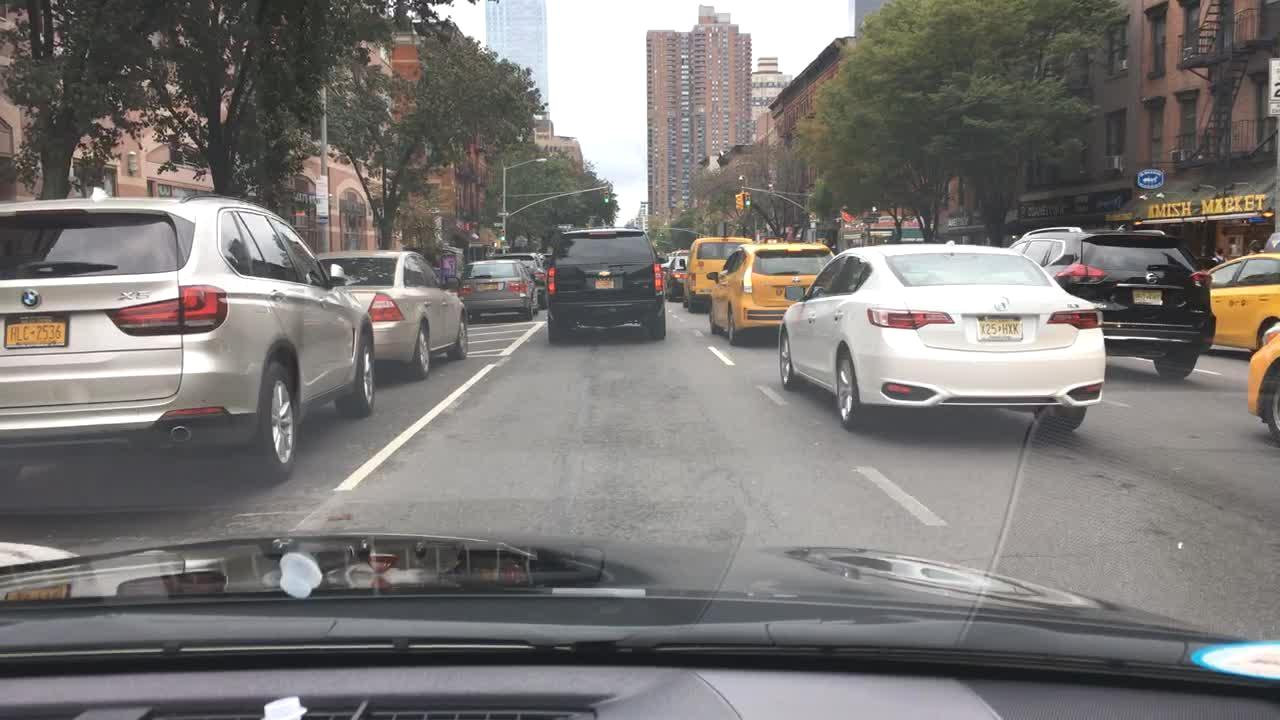Nissan: (1132, 264, 1172, 291)
Toyota: (787, 273, 807, 289)
acura: (971, 288, 1018, 323)
bmw: (20, 288, 41, 313)
chevrolet: (592, 264, 617, 281)
